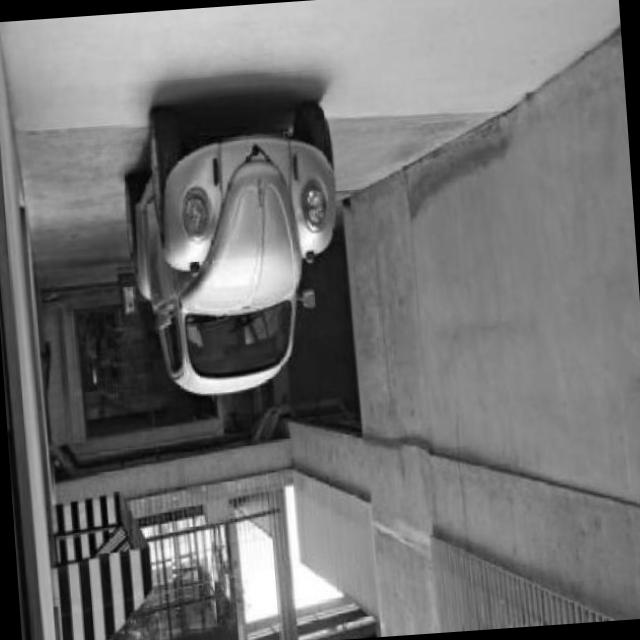car: (115, 86, 350, 398)
